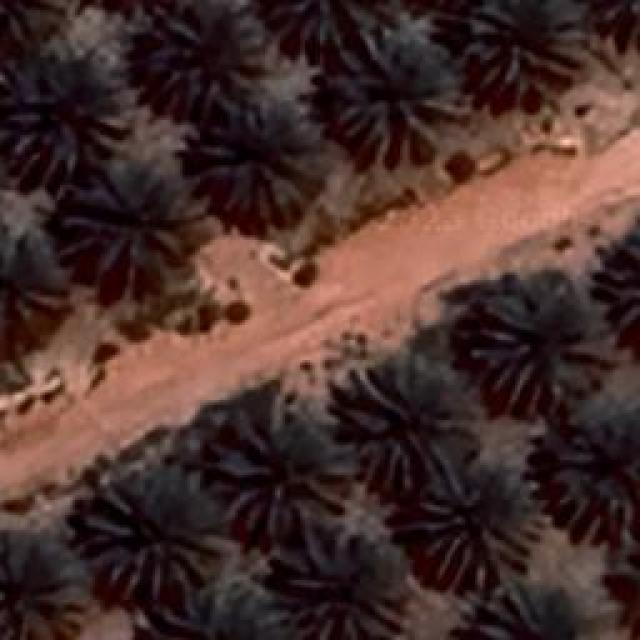PalmTree: (205, 402, 353, 538), (322, 28, 468, 162), (472, 282, 612, 410), (2, 47, 138, 175), (412, 452, 546, 578), (192, 100, 326, 225), (77, 478, 215, 592), (62, 168, 190, 278), (340, 360, 450, 485), (150, 5, 270, 113), (550, 395, 638, 540), (278, 534, 400, 638), (0, 515, 90, 640), (136, 572, 292, 640), (462, 0, 582, 88), (448, 570, 592, 640), (0, 221, 68, 351), (587, 212, 640, 370), (252, 0, 400, 50), (596, 521, 640, 640), (0, 0, 68, 53), (587, 0, 640, 53)
